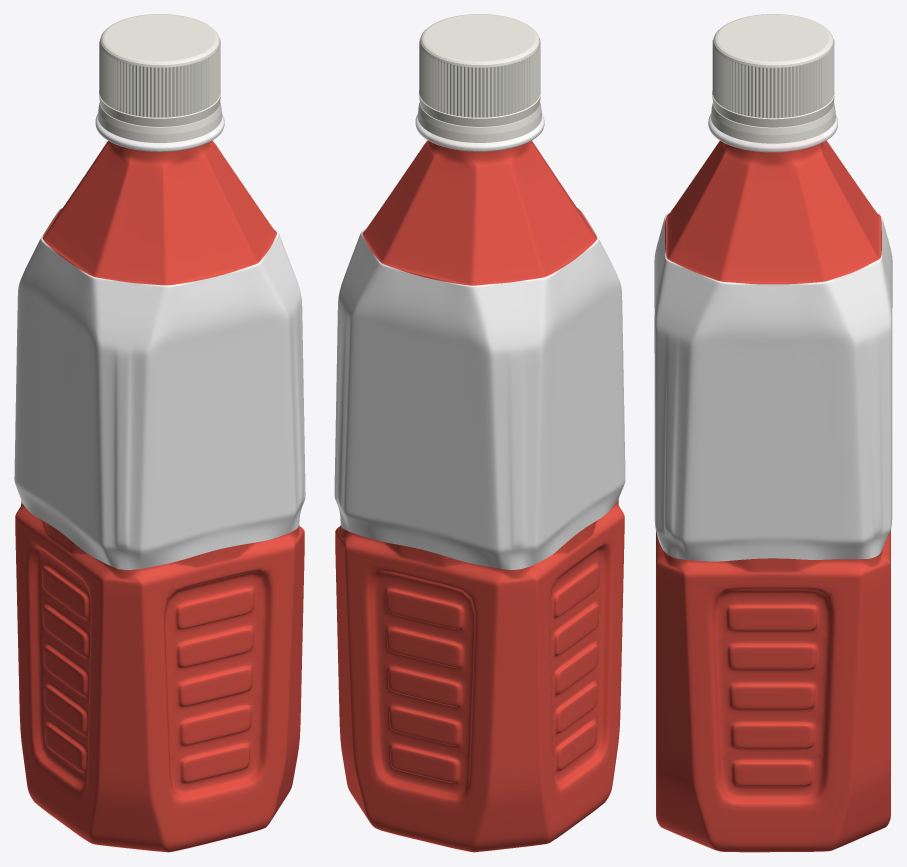
Rendered from pet-500-short-label.glb.
3 views of the same model, side by side, from view 1: azimuth 30°, elevation 25°; view 2: azimuth 150°, elevation 25°; view 3: azimuth 270°, elevation 25° (orthographic).
Visible parts, largest first — view 1: Water, Label, Cap, Body bottle; view 2: Water, Label, Cap, Body bottle; view 3: Water, Label, Cap, Body bottle.
Part boxes in pixels (x1=…): Water: x1=15, y1=140, x2=304, y2=852; Label: x1=14, y1=208, x2=305, y2=569; Cap: x1=98, y1=14, x2=222, y2=142; Body bottle: x1=95, y1=114, x2=224, y2=151; Water: x1=335, y1=140, x2=624, y2=852; Label: x1=334, y1=207, x2=625, y2=569; Cap: x1=417, y1=14, x2=541, y2=142; Body bottle: x1=415, y1=113, x2=544, y2=151; Water: x1=656, y1=140, x2=890, y2=852; Label: x1=654, y1=213, x2=892, y2=561; Cap: x1=711, y1=14, x2=835, y2=143; Body bottle: x1=708, y1=113, x2=837, y2=152.
Size of the model in its own units: 0.0586 by 0.2088 by 0.0586.
7 materials, 1 textured.
